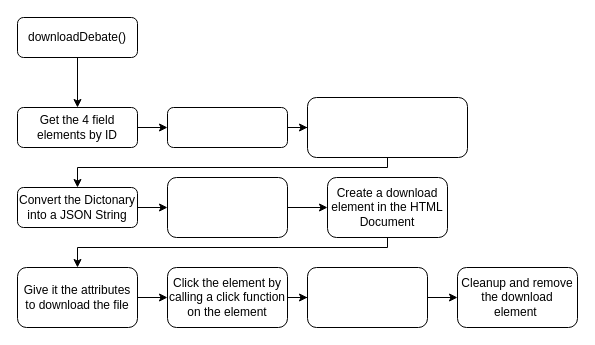
Some shapes in this 595 by 345 pixel diagram are drawn without their labels. The centre of each missing label's shape, as x and y in pixels:
Define a dictionary variable that is composed of the 4 elements: (387,127)
Save each element into a variable: (227,127)
The file is downloaded: (367,297)
Write the new string to a JSON file: (227,207)
